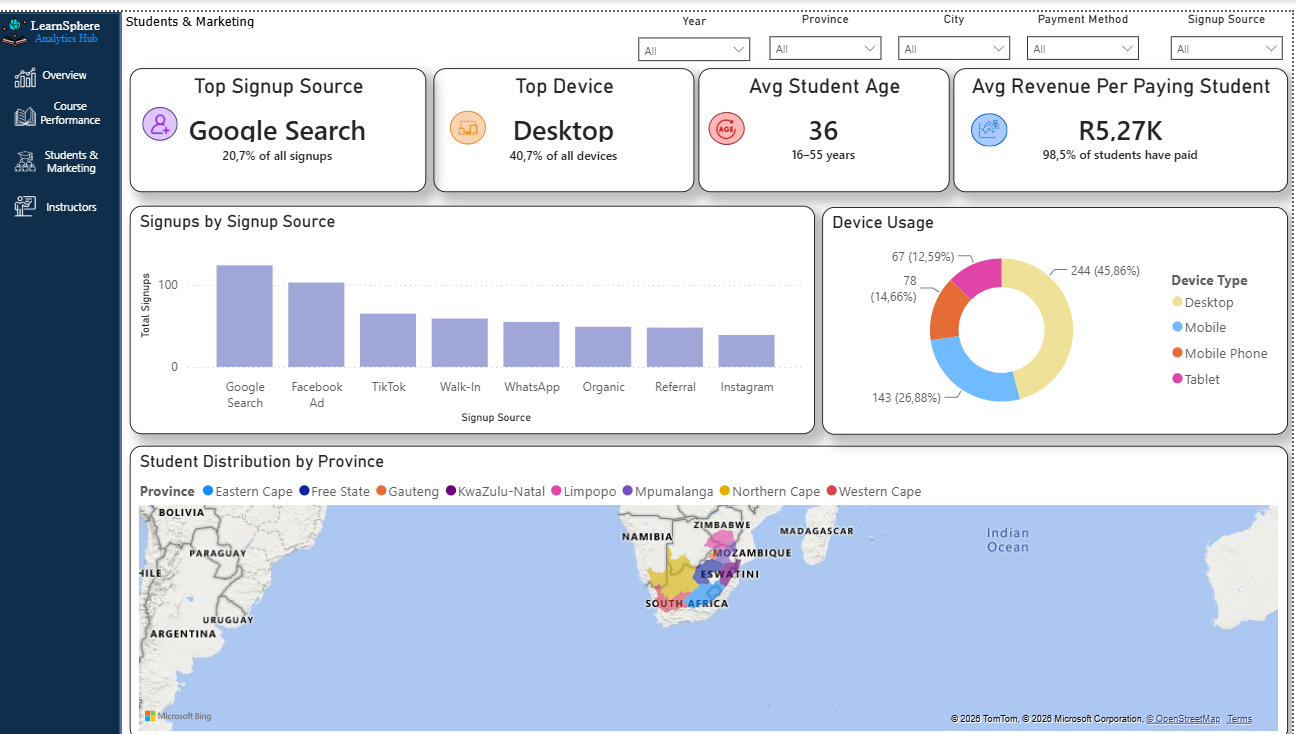

Layout of this report page (visuals, bound fields, positions):
{"tool":"powerbi","page":{"name":"Students & Marketing","canvas":[1280,720],"ordinal":2},"visuals":[{"type":"group","id":"g1","title":"Group 1","box":[0,0,124,720.8],"z":0},{"type":"shape","box":[0,0,124,720.8],"z":0,"group":"g1"},{"type":"image","box":[3.6,6,30,28],"z":1000,"group":"g1"},{"type":"cardVisual","title":"Top Device","fields":{"Data":["Courses.Top Device"]},"box":[432.5,55,257.5,122.5],"z":1000},{"type":"textbox","title":"LearnSphere","box":[29.6,6.4,79.6,13.6],"z":2000,"group":"g1"},{"type":"cardVisual","title":"Top Signup Source","fields":{"Data":["Courses.Top Signup Source"]},"box":[132,55,292.9,122.4],"z":2000},{"type":"textbox","title":"Analytics Hub","box":[32.8,20,73.2,13.6],"z":3000,"group":"g1"},{"type":"cardVisual","title":"Avg Student Age","fields":{"Data":["Courses.Average Student Age"]},"box":[693.9,55,247.8,122],"z":3000},{"type":"actionButton","box":[42,50.8,70,23.2],"z":4000,"group":"g1"},{"type":"cardVisual","title":"Avg Revenue Per Paying Student","fields":{"Data":["Courses.Average Revenue per Paying Student"]},"box":[946,55,330,122],"z":4000},{"type":"textbox","title":"Students & Marketing","box":[124,0,142,20],"z":5000},{"type":"actionButton","box":[38,81.2,70,37.2],"z":5000,"group":"g1"},{"type":"shape","box":[962.5,100,36.2,33.1],"z":6000},{"type":"actionButton","box":[39.6,127.6,70,40],"z":6000,"group":"g1"},{"type":"slicer","title":"Year","fields":{"Values":["Date.Year"]},"box":[630,1,120,51],"z":7000},{"type":"actionButton","box":[40,176,70,31.6],"z":7000,"group":"g1"},{"type":"slicer","title":"Province","fields":{"Values":["Students.expected_province"]},"box":[759,0,120,51],"z":8000},{"type":"slicer","title":"City","fields":{"Values":["Students.city"]},"box":[886,0,120,51],"z":9000},{"type":"image","box":[18.8,53.6,20.4,23.2],"z":9000,"group":"g1"},{"type":"shape","box":[448.1,98.1,35.8,33.3],"z":9000,"group":"g3"},{"type":"slicer","title":"Payment Method","fields":{"Values":["Enrollments.payment_method"]},"box":[1014,0,120,51],"z":10000},{"type":"shape","box":[145,94.4,35,33.3],"z":10000,"group":"g4"},{"type":"image","box":[18,180.4,20.4,23.2],"z":10000,"group":"g1"},{"type":"slicer","title":"Signup Source","fields":{"Values":["Students.signup_source"]},"box":[1156,0,120,51],"z":11000},{"type":"image","box":[18.8,91.6,20.4,23.2],"z":11000,"group":"g1"},{"type":"shape","box":[703.8,99.4,35.8,32.5],"z":11000,"group":"g2"},{"type":"image","box":[969.4,106.2,23.1,19.4],"z":12000},{"type":"image","box":[18,136,20.4,23.2],"z":12000,"group":"g1"},{"type":"group","id":"g2","title":"Group 2","box":[703.8,99.4,36.2,32.5],"z":13000},{"type":"group","id":"g3","title":"Group 3","box":[448.1,98.1,36.2,33.1],"z":14000},{"type":"group","id":"g4","title":"Group 4","box":[145,94.4,35,33.1],"z":15000},{"type":"clusteredColumnChart","title":"Signups by Signup Source","fields":{"Category":["Students.signup_source"],"Y":["Courses.Total Signups"]},"box":[132.3,191.5,676.9,225.4],"z":16000},{"type":"filledMap","title":"Student Distribution by Province","fields":{"Category":["Students.expected_province"],"Series":["Students.expected_province"]},"box":[132.3,428.5,1143.8,291.5],"z":16001},{"type":"donutChart","title":"Device Usage","fields":{"Y":["Courses.Total Students"],"Category":["Students.device_type"]},"box":[816.2,192.3,460,224.6],"z":16002},{"type":"image","box":[151.5,101.4,23.3,19],"z":20000,"group":"g4"},{"type":"image","box":[454.8,105.1,23.3,19.3],"z":21000,"group":"g3"},{"type":"image","box":[710.3,106.4,23,19.3],"z":22000,"group":"g2"}]}

Visuals, with their boxes on the page's 1280x720 design canvas (x1, y1, x2, y2). These are canvas units, not pixel positions in the 1296x734 screenshot, which may show the page scaled, cropped or inside an application window:
"Group 1" group: select_region(0, 0, 124, 721)
shape: select_region(0, 0, 124, 721)
image: select_region(4, 6, 34, 34)
"Top Device" cardVisual: select_region(432, 55, 690, 178)
"LearnSphere" textbox: select_region(30, 6, 109, 20)
"Top Signup Source" cardVisual: select_region(132, 55, 425, 177)
"Analytics Hub" textbox: select_region(33, 20, 106, 34)
"Avg Student Age" cardVisual: select_region(694, 55, 942, 177)
actionButton: select_region(42, 51, 112, 74)
"Avg Revenue Per Paying Student" cardVisual: select_region(946, 55, 1276, 177)
"Students & Marketing" textbox: select_region(124, 0, 266, 20)
actionButton: select_region(38, 81, 108, 118)
shape: select_region(962, 100, 999, 133)
actionButton: select_region(40, 128, 110, 168)
"Year" slicer: select_region(630, 1, 750, 52)
actionButton: select_region(40, 176, 110, 208)
"Province" slicer: select_region(759, 0, 879, 51)
"City" slicer: select_region(886, 0, 1006, 51)
image: select_region(19, 54, 39, 77)
shape: select_region(448, 98, 484, 131)
"Payment Method" slicer: select_region(1014, 0, 1134, 51)
shape: select_region(145, 94, 180, 128)
image: select_region(18, 180, 38, 204)
"Signup Source" slicer: select_region(1156, 0, 1276, 51)
image: select_region(19, 92, 39, 115)
shape: select_region(704, 99, 740, 132)
image: select_region(969, 106, 992, 126)
image: select_region(18, 136, 38, 159)
"Group 2" group: select_region(704, 99, 740, 132)
"Group 3" group: select_region(448, 98, 484, 131)
"Group 4" group: select_region(145, 94, 180, 128)
"Signups by Signup Source" clusteredColumnChart: select_region(132, 192, 809, 417)
"Student Distribution by Province" filledMap: select_region(132, 428, 1276, 720)
"Device Usage" donutChart: select_region(816, 192, 1276, 417)
image: select_region(152, 101, 175, 120)
image: select_region(455, 105, 478, 124)
image: select_region(710, 106, 733, 126)
